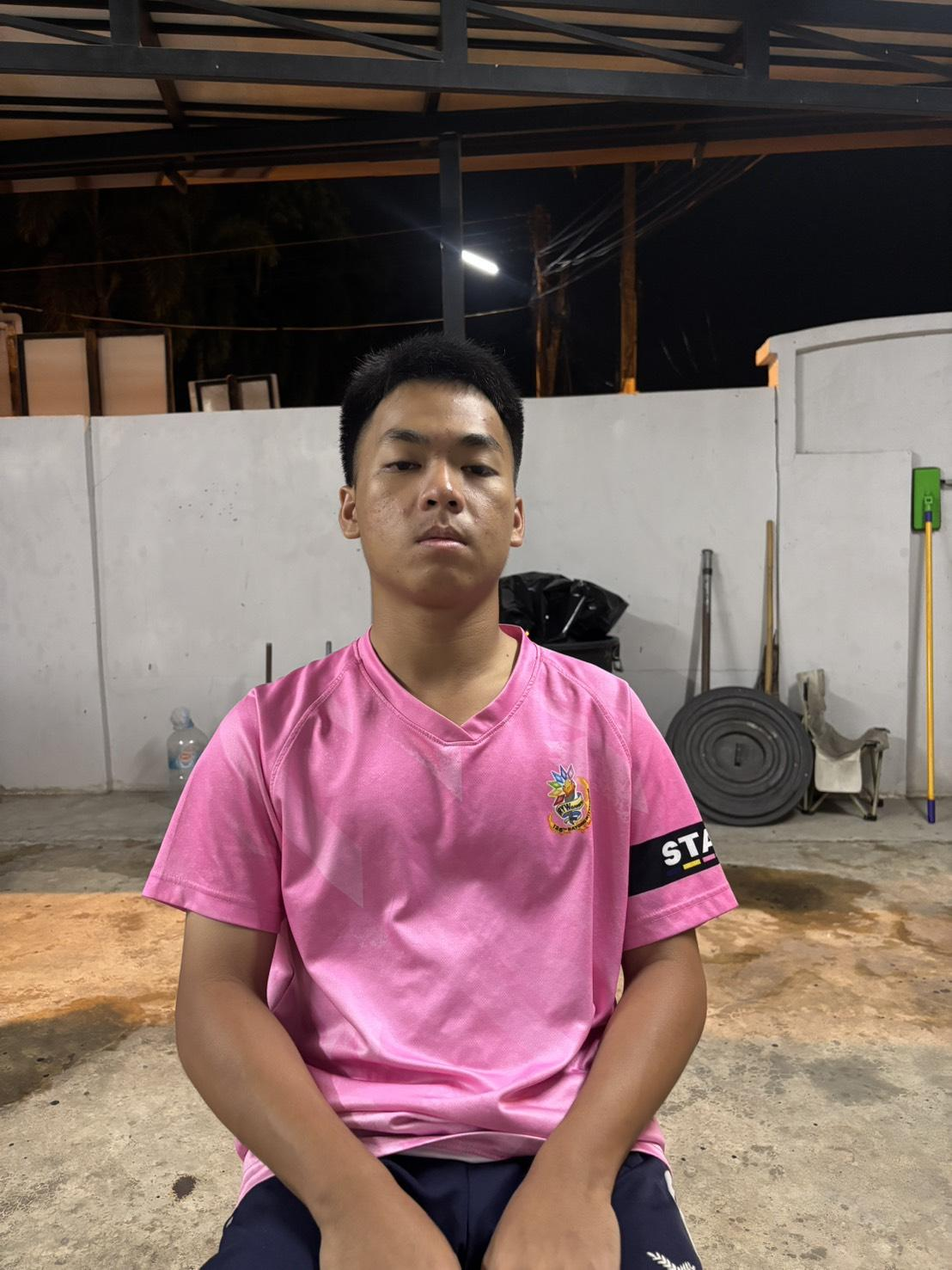BadPosture: (143, 335, 735, 1269)
